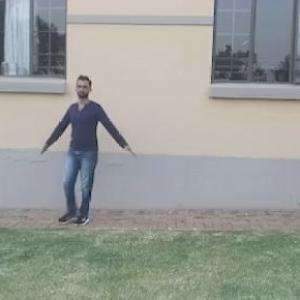land: (41, 80, 140, 230)
